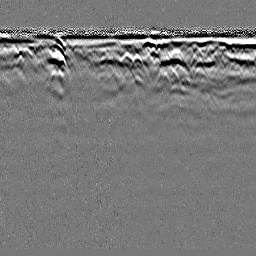cavity: (120, 50, 133, 63)
